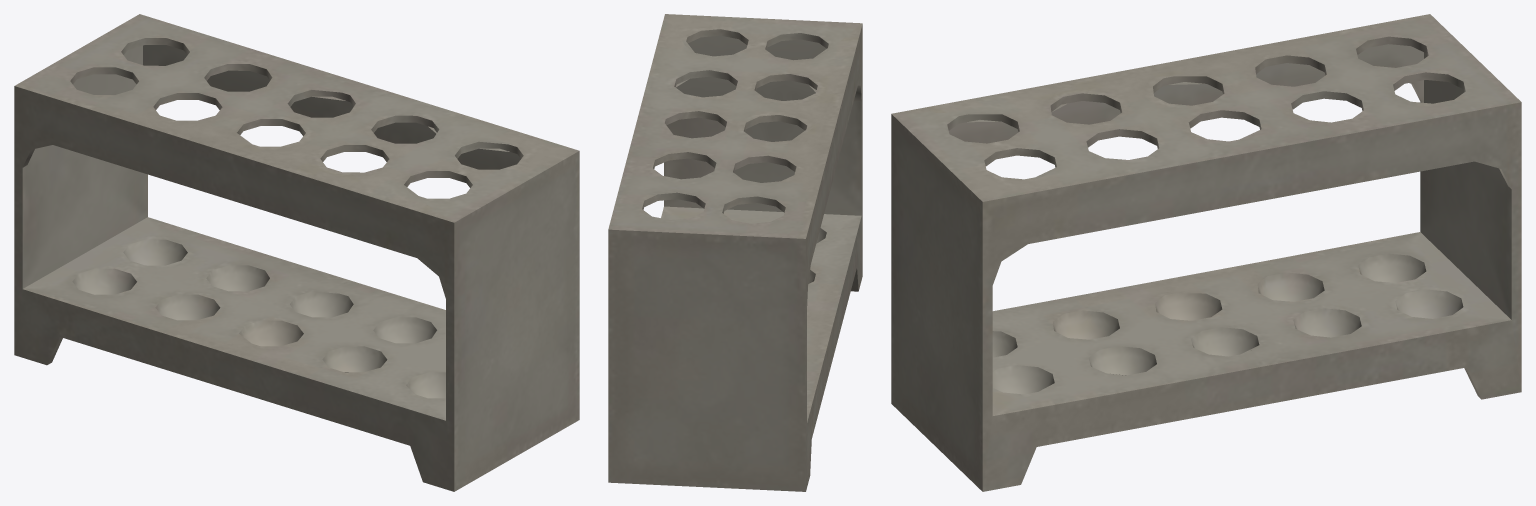
File: SampleHolder.fbx
3 views of the same model, side by side, from view 1: azimuth 30°, elevation 25°; view 2: azimuth 150°, elevation 25°; view 3: azimuth 270°, elevation 25° (orthographic). The views are drawn at different scales.
Parts seen in each view (by area): view 1: Object_72.001; view 2: Object_72.001; view 3: Object_72.001.
Boxes of the visible parts, <box> form: Object_72.001: <box>14,14,579,491</box>; Object_72.001: <box>608,14,862,491</box>; Object_72.001: <box>891,14,1521,491</box>.
Bounding box in the file's own units: 13.44 × 9.67 × 19.05.
